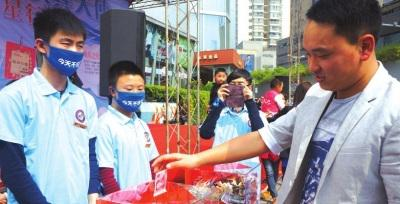NONE: (304, 32, 357, 92)
OK: (42, 32, 86, 76), (115, 78, 147, 110)
